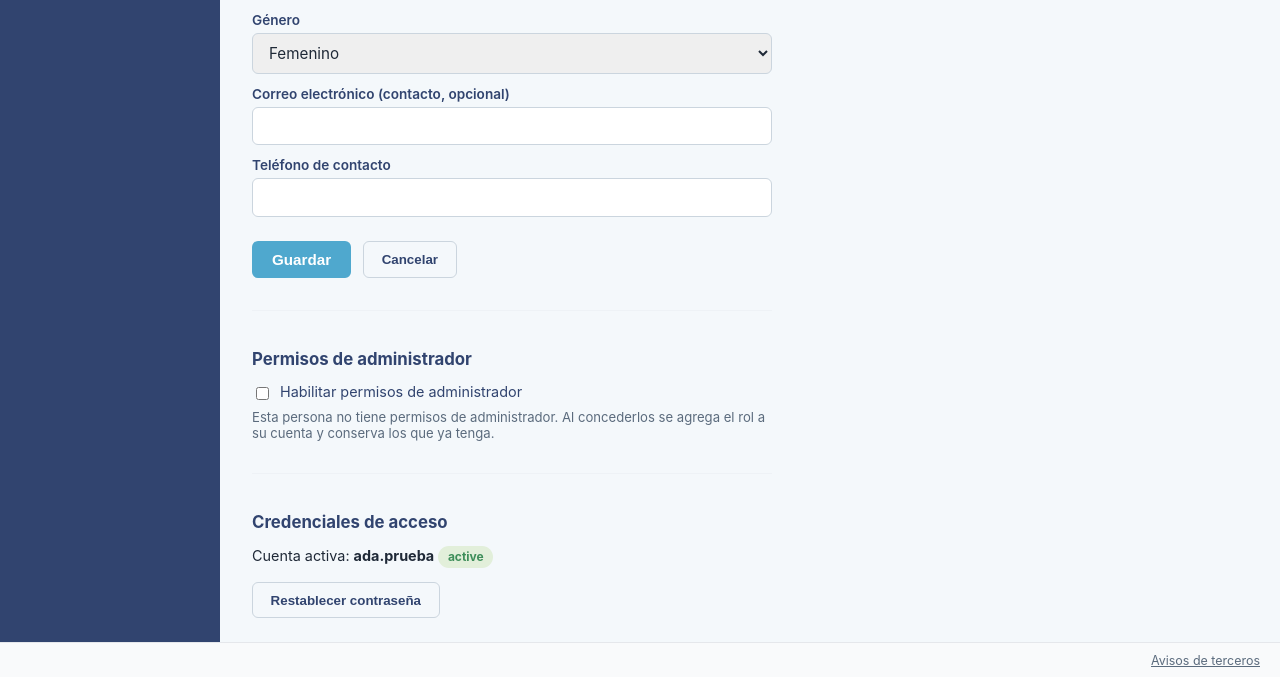
Scenario: conceder › si la API falla, la casilla vuelve atrás y se muestra el motivo
This screenshot has width=1280, height=677.
(page scrolled)
Click the checkbox labelled "Habilitar permisos de administrador" at (262, 393), box [256,386,269,400]
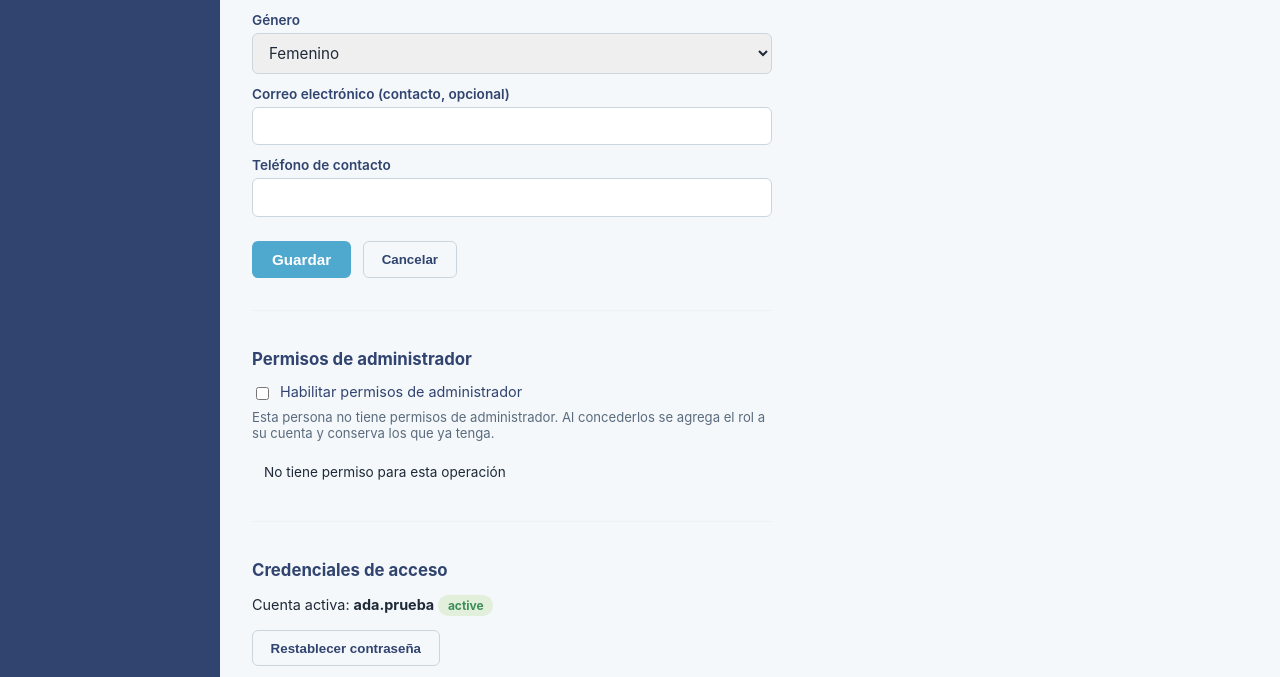
Check: the text "No tiene permiso para esta operación" is shown, box [252,454,772,489]
